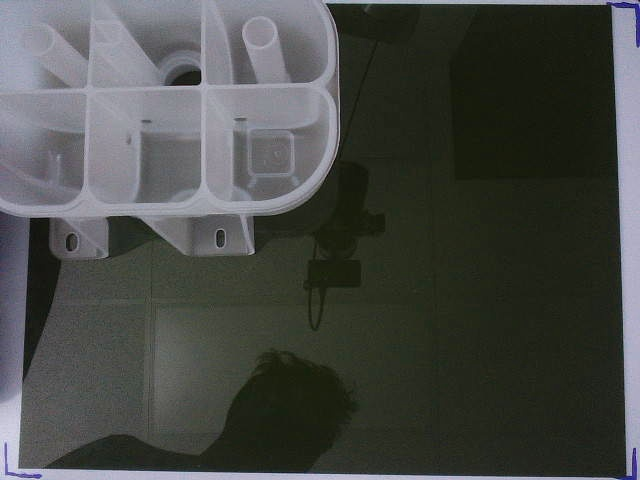reservoir_transparent_Under: (1, 1, 342, 257)
